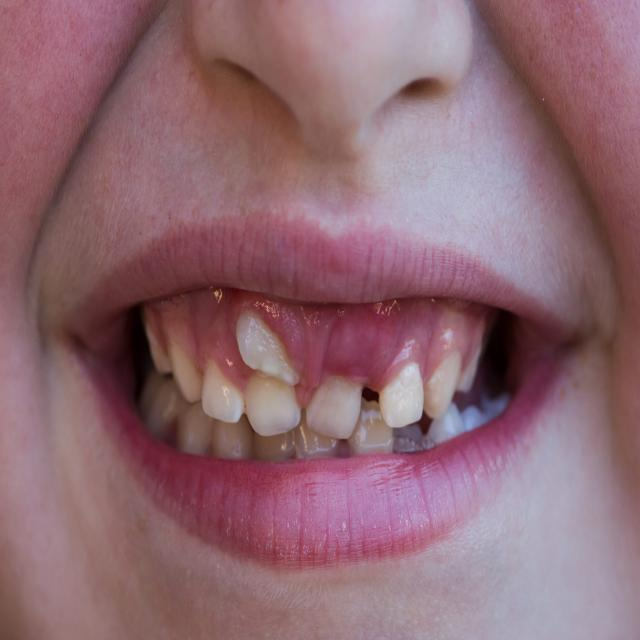Gap: (346, 369, 398, 432)
